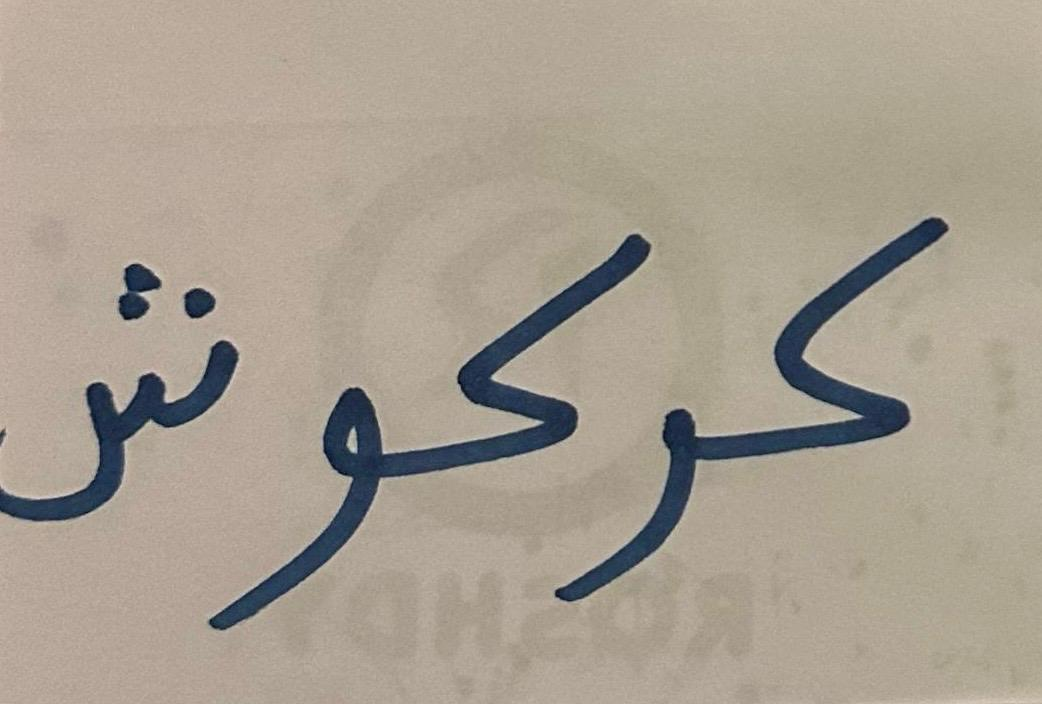khah: (727, 148, 989, 546), (410, 121, 626, 536)
sad: (628, 352, 725, 642)
tah: (3, 161, 246, 582)
yeh: (250, 319, 407, 649)
